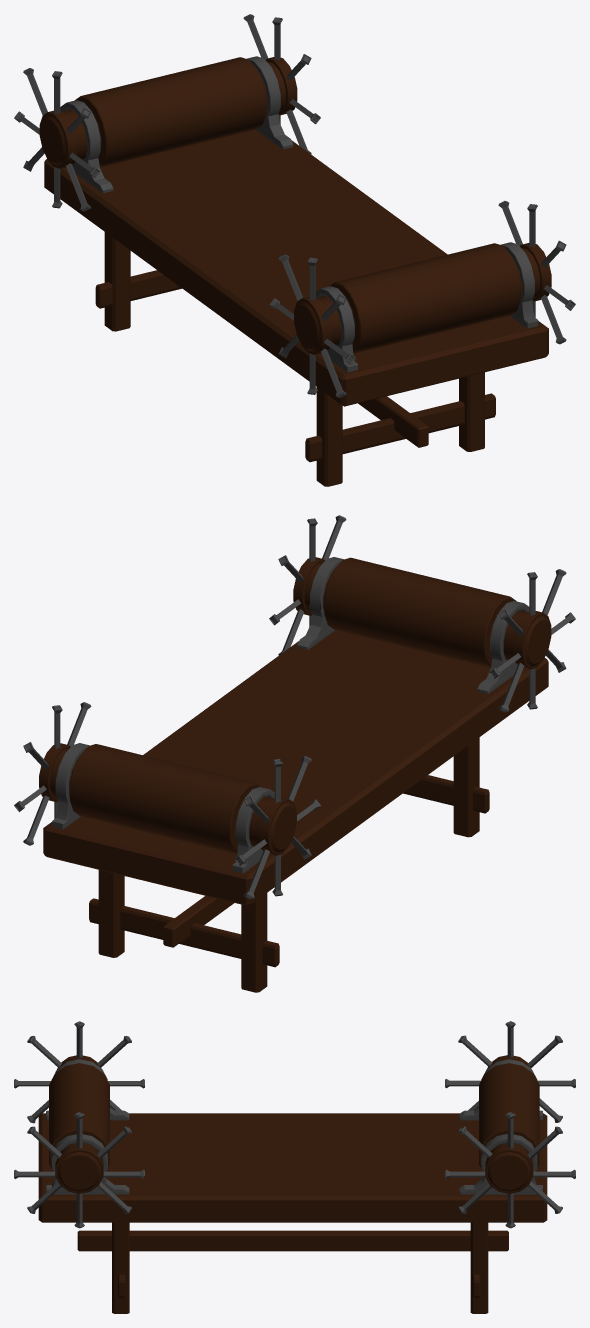
File: SM_TortureRack.fbx
3 views of the same model, one above another, from view 1: azimuth 30°, elevation 25°; view 2: azimuth 150°, elevation 25°; view 3: azimuth 270°, elevation 25° (orthographic). The views are drawn at different scales.
Visible parts, largest first — view 1: polySurface42, polySurface12, polySurface9, polySurface47, polySurface46, polySurface45, polySurface55, polySurface54, polySurface43, polySurface50, polySurface31, polySurface49 (+5 smaller); view 2: polySurface42, polySurface12, polySurface9, polySurface48, polySurface45, polySurface46, polySurface55, polySurface54, polySurface44, polySurface56, polySurface53, polySurface49 (+5 smaller); view 3: polySurface42, polySurface49, polySurface9, polySurface12, polySurface56, polySurface31, polySurface55, polySurface44, polySurface54, polySurface43, polySurface50, polySurface53 (+2 smaller).
Part boxes in pixels (left/top/right/bottom): polySurface42: left=44, top=129, right=548, bottom=406; polySurface12: left=294, top=243, right=551, bottom=354; polySurface9: left=39, top=57, right=297, bottom=168; polySurface47: left=305, top=393, right=495, bottom=462; polySurface46: left=316, top=387, right=342, bottom=486; polySurface45: left=104, top=232, right=130, bottom=331; polySurface55: left=14, top=68, right=100, bottom=211; polySurface54: left=269, top=254, right=355, bottom=397; polySurface43: left=459, top=372, right=484, bottom=451; polySurface50: left=246, top=56, right=293, bottom=149; polySurface31: left=498, top=201, right=575, bottom=344; polySurface49: left=358, top=396, right=428, bottom=447; polySurface42: left=43, top=630, right=548, bottom=905; polySurface12: left=293, top=557, right=551, bottom=669; polySurface9: left=39, top=743, right=296, bottom=855; polySurface48: left=89, top=898, right=279, bottom=967; polySurface45: left=241, top=893, right=267, bottom=992; polySurface46: left=453, top=737, right=479, bottom=837; polySurface55: left=234, top=756, right=320, bottom=899; polySurface54: left=489, top=569, right=575, bottom=712; polySurface44: left=98, top=870, right=124, bottom=957; polySurface56: left=14, top=702, right=91, bottom=845; polySurface53: left=297, top=557, right=343, bottom=649; polySurface49: left=163, top=896, right=233, bottom=947; polySurface42: left=38, top=1113, right=547, bottom=1222; polySurface49: left=77, top=1230, right=508, bottom=1251; polySurface9: left=479, top=1055, right=539, bottom=1193; polySurface12: left=49, top=1055, right=109, bottom=1193; polySurface56: left=445, top=1112, right=575, bottom=1228; polySurface31: left=14, top=1112, right=144, bottom=1228; polySurface55: left=445, top=1021, right=575, bottom=1122; polySurface44: left=470, top=1222, right=488, bottom=1313; polySurface54: left=14, top=1021, right=144, bottom=1123; polySurface43: left=112, top=1222, right=129, bottom=1313; polySurface50: left=459, top=1134, right=542, bottom=1194; polySurface53: left=46, top=1134, right=129, bottom=1194.
Size of the model in its own units: 5.69 by 5.81 by 14.01.
